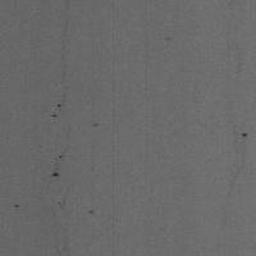Inclusion: (51, 60, 67, 119)
